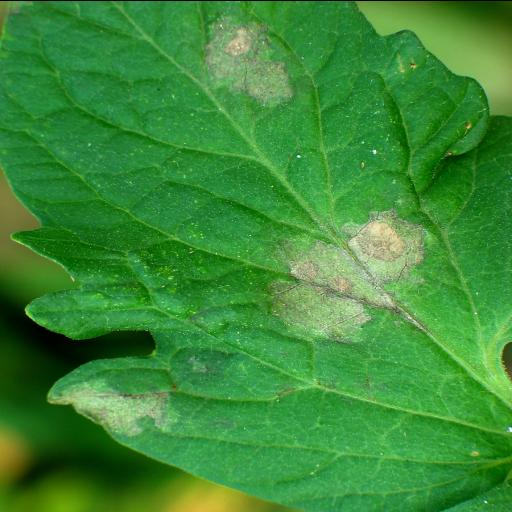Late Blight: (8, 3, 502, 497)
